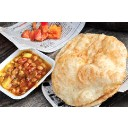poori: (54, 33, 127, 103)
